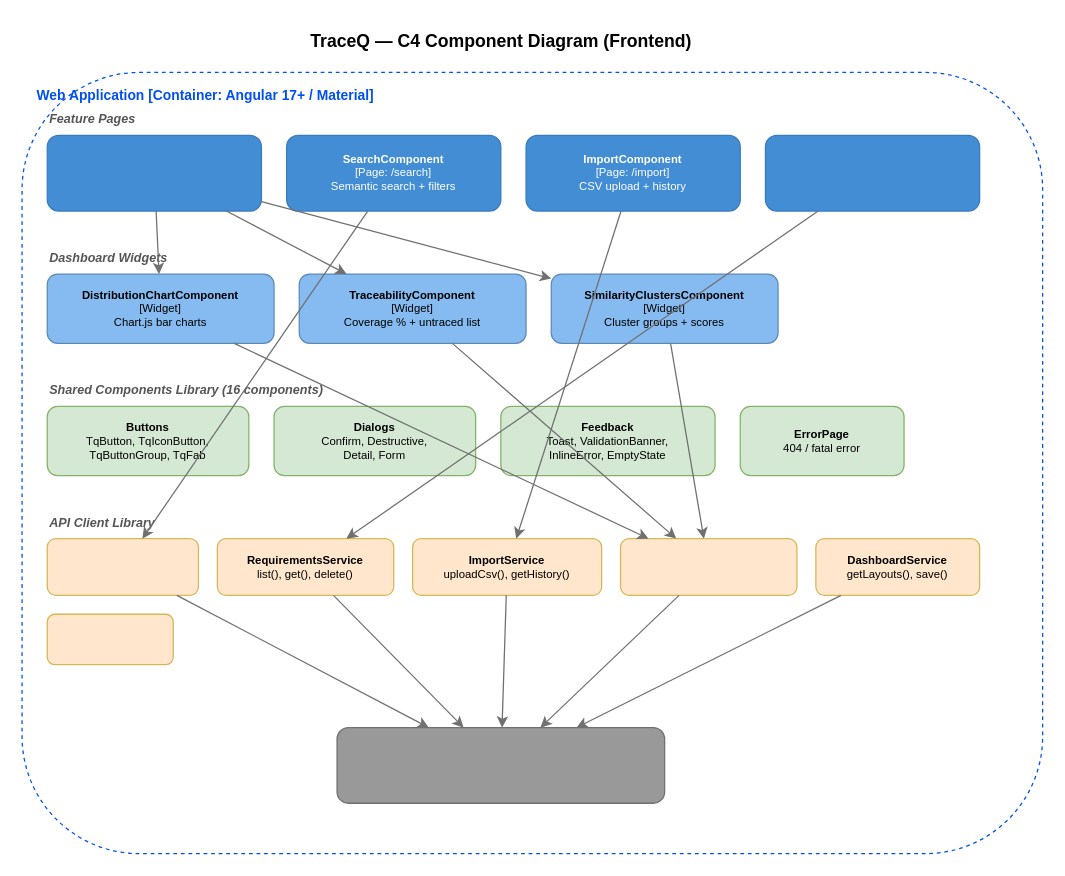
This 1065x876 diagram has some shape labels left out. Each missing label, with the centre of its shape:
API Server [Container: ASP.NET Core] localhost:5000: (x=500, y=764)
AuditService list(): (x=109, y=639)
DashboardComponent [Page: /dashboard] Reports + analytics widgets: (x=153, y=172)
ReportsService getDistribution(), getTraceability(): (x=708, y=566)
RequirementsComponent [Page: /requirements] Browse + CRUD: (x=872, y=172)
SearchService search(): (x=122, y=566)
